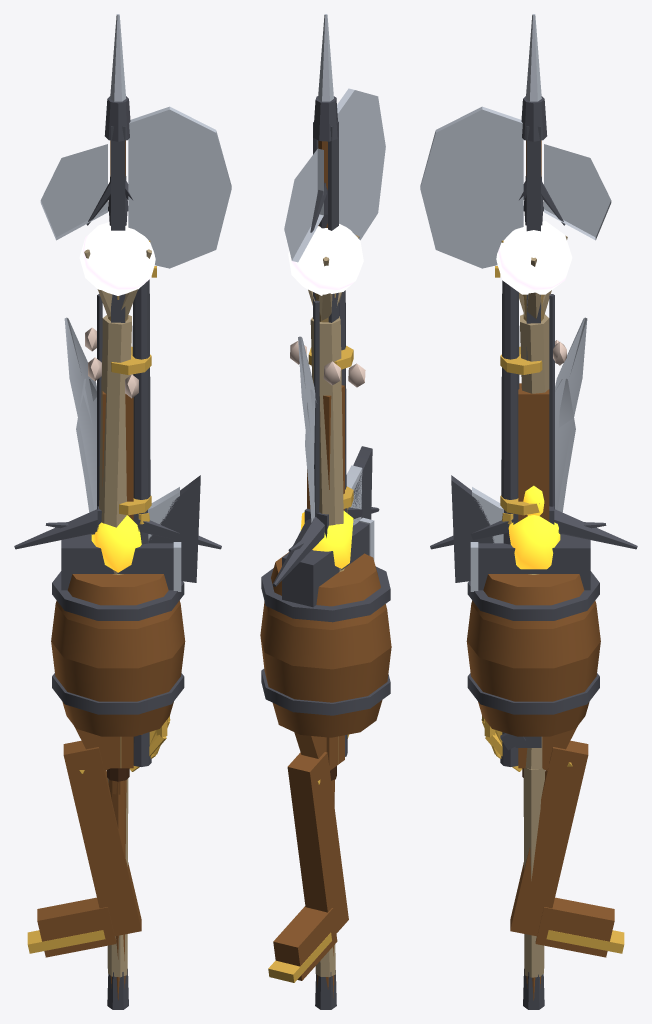
Rendered from weapons.glb.
The picture shows the model from 3 angles, left to right: view 1: azimuth 90°, elevation 25°; view 2: azimuth 150°, elevation 25°; view 3: azimuth 270°, elevation 25°; orthographic projection.
Visible parts, largest first — view 1: Halberd, PowderKeg, Musket, TideStaff, Hammer, Sabre, BoardingAxe, Torch, Pickaxe, Cutlass, WoodAxe, Flintlock (+1 smaller); view 2: PowderKeg, Musket, Halberd, TideStaff, Hammer, Pickaxe, Sabre, Torch, BoardingAxe, Flintlock, WoodAxe, Harpoon (+1 smaller); view 3: Halberd, Musket, PowderKeg, TideStaff, Hammer, Torch, BoardingAxe, Sabre, Pickaxe, Cutlass, WoodAxe, Harpoon (+1 smaller).
Boxes of the visible parts, x1=… form: Halberd: x1=40, y1=14, x2=231, y2=1009; PowderKeg: x1=51, y1=571, x2=185, y2=736; Musket: x1=27, y1=240, x2=156, y2=957; TideStaff: x1=79, y1=222, x2=155, y2=977; Hammer: x1=61, y1=534, x2=181, y2=591; Sabre: x1=64, y1=317, x2=156, y2=744; BoardingAxe: x1=45, y1=475, x2=200, y2=582; Torch: x1=91, y1=515, x2=141, y2=794; Pickaxe: x1=14, y1=506, x2=221, y2=781; Cutlass: x1=76, y1=378, x2=167, y2=756; WoodAxe: x1=117, y1=487, x2=179, y2=782; Flintlock: x1=74, y1=513, x2=149, y2=773; PowderKeg: x1=260, y1=552, x2=391, y2=737; Musket: x1=268, y1=290, x2=353, y2=982; Halberd: x1=284, y1=14, x2=385, y2=1009; TideStaff: x1=288, y1=224, x2=365, y2=977; Hammer: x1=282, y1=517, x2=374, y2=607; Pickaxe: x1=272, y1=507, x2=379, y2=586; Sabre: x1=298, y1=336, x2=315, y2=518; Torch: x1=300, y1=511, x2=353, y2=792; BoardingAxe: x1=288, y1=446, x2=372, y2=551; Flintlock: x1=294, y1=508, x2=348, y2=784; WoodAxe: x1=333, y1=465, x2=362, y2=780; Harpoon: x1=310, y1=182, x2=335, y2=298; Halberd: x1=420, y1=14, x2=611, y2=1009; Musket: x1=495, y1=240, x2=624, y2=957; PowderKeg: x1=466, y1=571, x2=600, y2=736; TideStaff: x1=496, y1=221, x2=572, y2=977; Hammer: x1=470, y1=534, x2=590, y2=591; Torch: x1=508, y1=485, x2=560, y2=574; BoardingAxe: x1=451, y1=475, x2=606, y2=582; Sabre: x1=495, y1=317, x2=587, y2=744; Pickaxe: x1=430, y1=506, x2=637, y2=549; Cutlass: x1=484, y1=378, x2=575, y2=756; WoodAxe: x1=472, y1=487, x2=503, y2=543; Harpoon: x1=519, y1=175, x2=565, y2=298.
Bounding box in the file's own units: 0.2473 × 2.12 × 0.4214.
